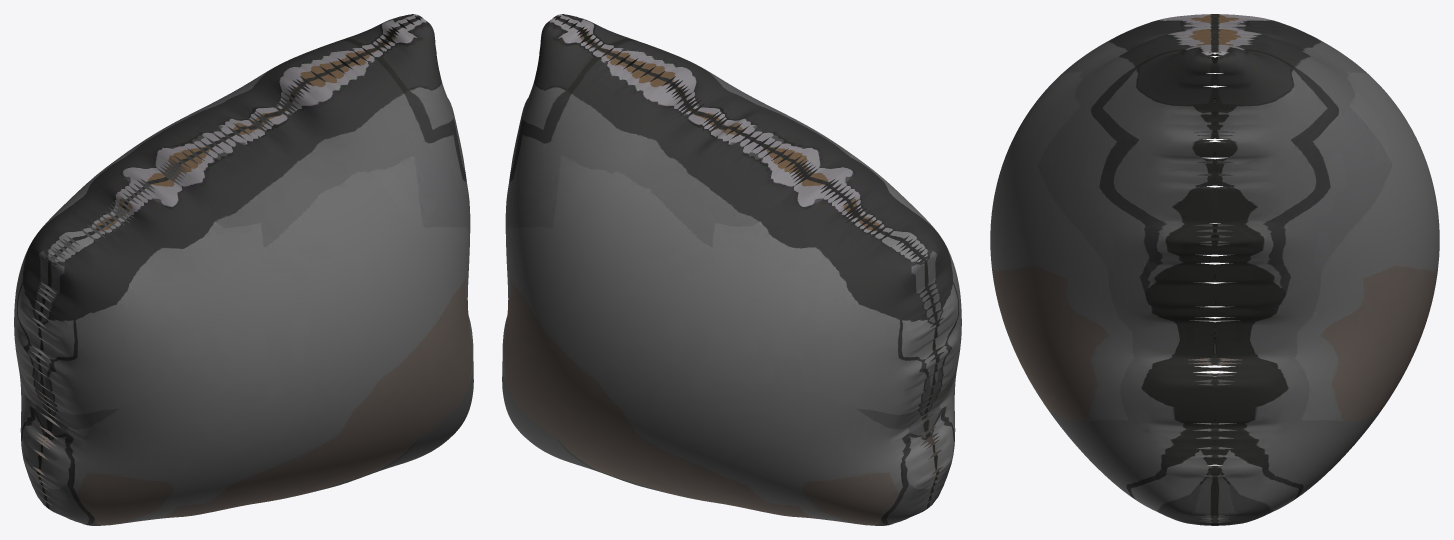
The model's file is cliff_section.glb.
3 views of the same model, side by side, from view 1: azimuth 30°, elevation 25°; view 2: azimuth 150°, elevation 25°; view 3: azimuth 270°, elevation 25° (orthographic). The views are drawn at different scales.
Parts seen in each view (by area): view 1: cliff_section; view 2: cliff_section; view 3: cliff_section.
Boxes of the visible parts, x1,y1,x2,y2 form: cliff_section: (14,14,473,525); cliff_section: (502,14,961,525); cliff_section: (990,14,1439,525).
Size of the model in its own units: 0.9889 by 0.9577 by 0.8079.
1 material, 1 textured.
